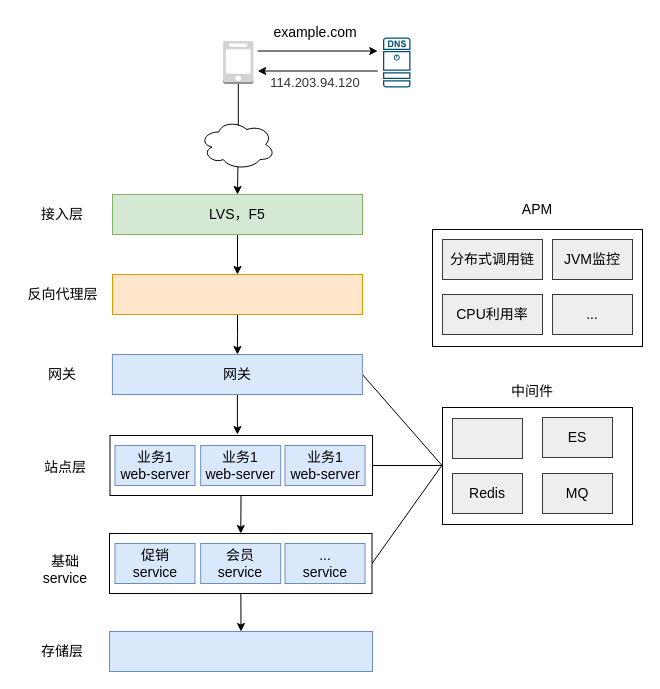
Image size: 660x689. Some labels were removed from this diagram. The centre of each missing label's shape, as x and y in pixels:
CDN: pixel 237 144
DB: pixel 240 651
Nginx: pixel 237 294
ZK: pixel 487 438
